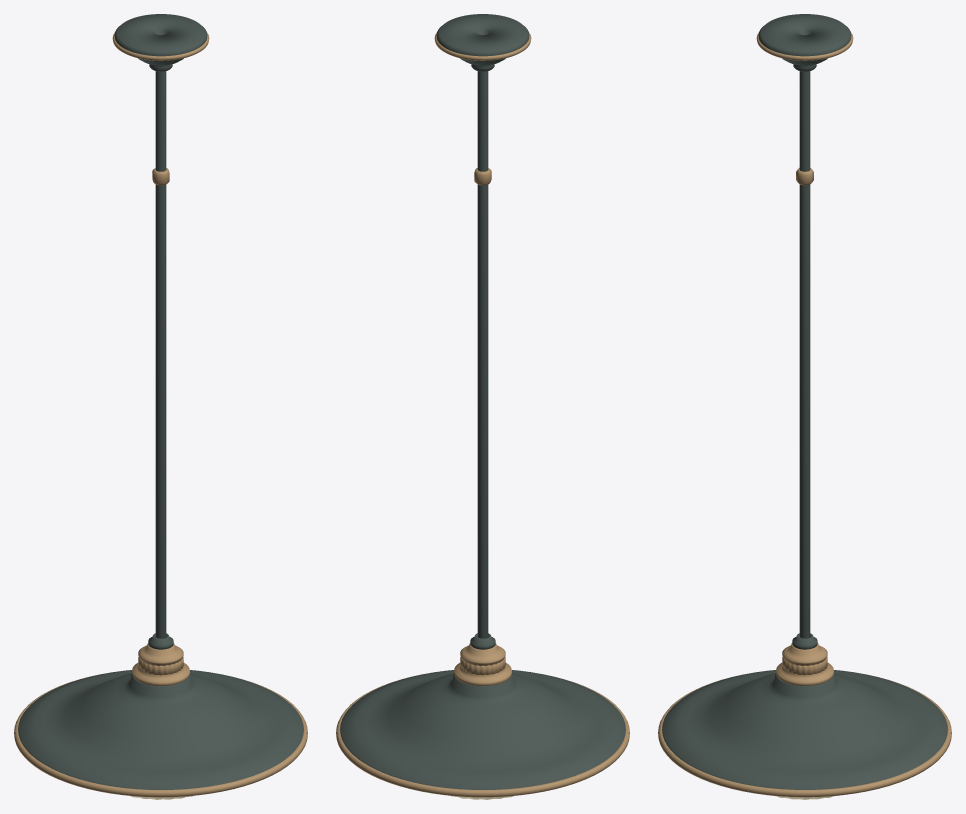
The model's file is HallPendant.fbx.
The picture shows the model from 3 angles, left to right: view 1: azimuth 30°, elevation 25°; view 2: azimuth 150°, elevation 25°; view 3: azimuth 270°, elevation 25°; orthographic projection.
Visible parts, largest first — view 1: HallPendant; view 2: HallPendant; view 3: HallPendant.
Boxes of the visible parts, x1,y1,x2,y2 form: HallPendant: [14, 14, 307, 799]; HallPendant: [336, 14, 629, 799]; HallPendant: [658, 14, 951, 799].
Bounding box in the file's own units: 72.4 × 205 × 72.4.
